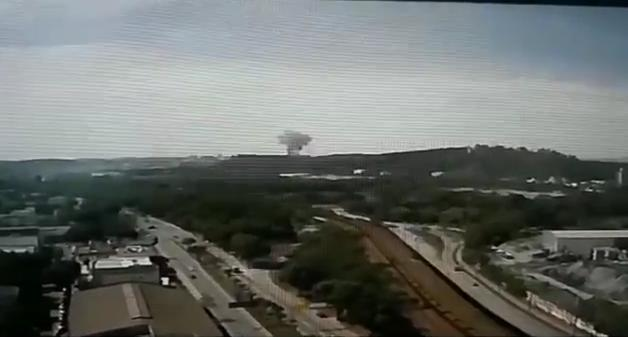Smoke: (272, 130, 320, 156)
